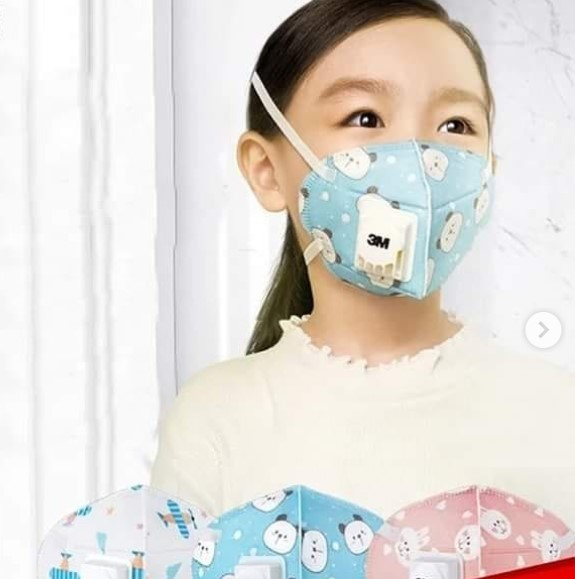face_with_mask: (249, 6, 501, 300)
